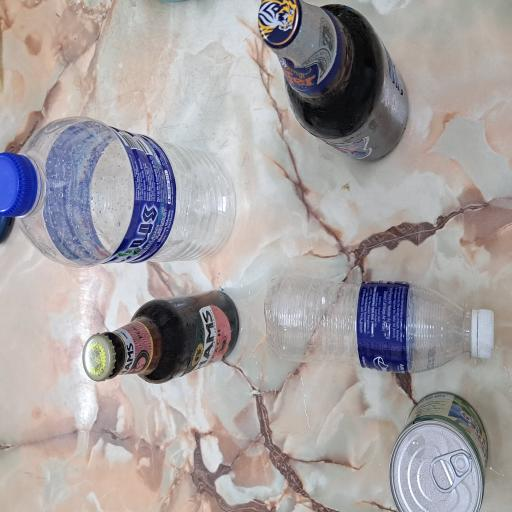glass bottle: (266, 341, 384, 512), (96, 106, 167, 322)
plastic bottle: (186, 0, 298, 312), (105, 349, 177, 512)
plastic bottle cap: (222, 0, 269, 50)
